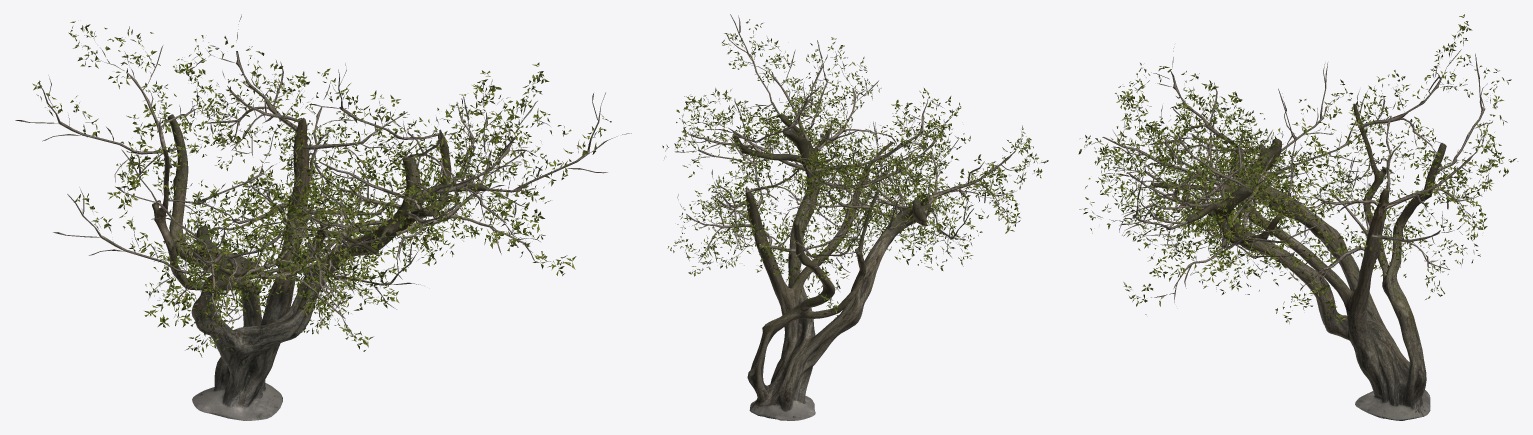
The model's file is cay-ven-bien-2.glb.
3 views of the same model, side by side, from view 1: azimuth 30°, elevation 25°; view 2: azimuth 150°, elevation 25°; view 3: azimuth 270°, elevation 25° (orthographic). The views are drawn at different scales.
Parts seen in each view (by area): view 1: island_tree_02_LOD0; view 2: island_tree_02_LOD0; view 3: island_tree_02_LOD0.
Part boxes in pixels (x1=…): island_tree_02_LOD0: x1=15, y1=14, x2=631, y2=420; island_tree_02_LOD0: x1=662, y1=14, x2=1048, y2=420; island_tree_02_LOD0: x1=1078, y1=14, x2=1517, y2=420.
Size of the model in its own units: 1 by 0.8096 by 0.9609.
Materials: 3 (3 with a texture image).
